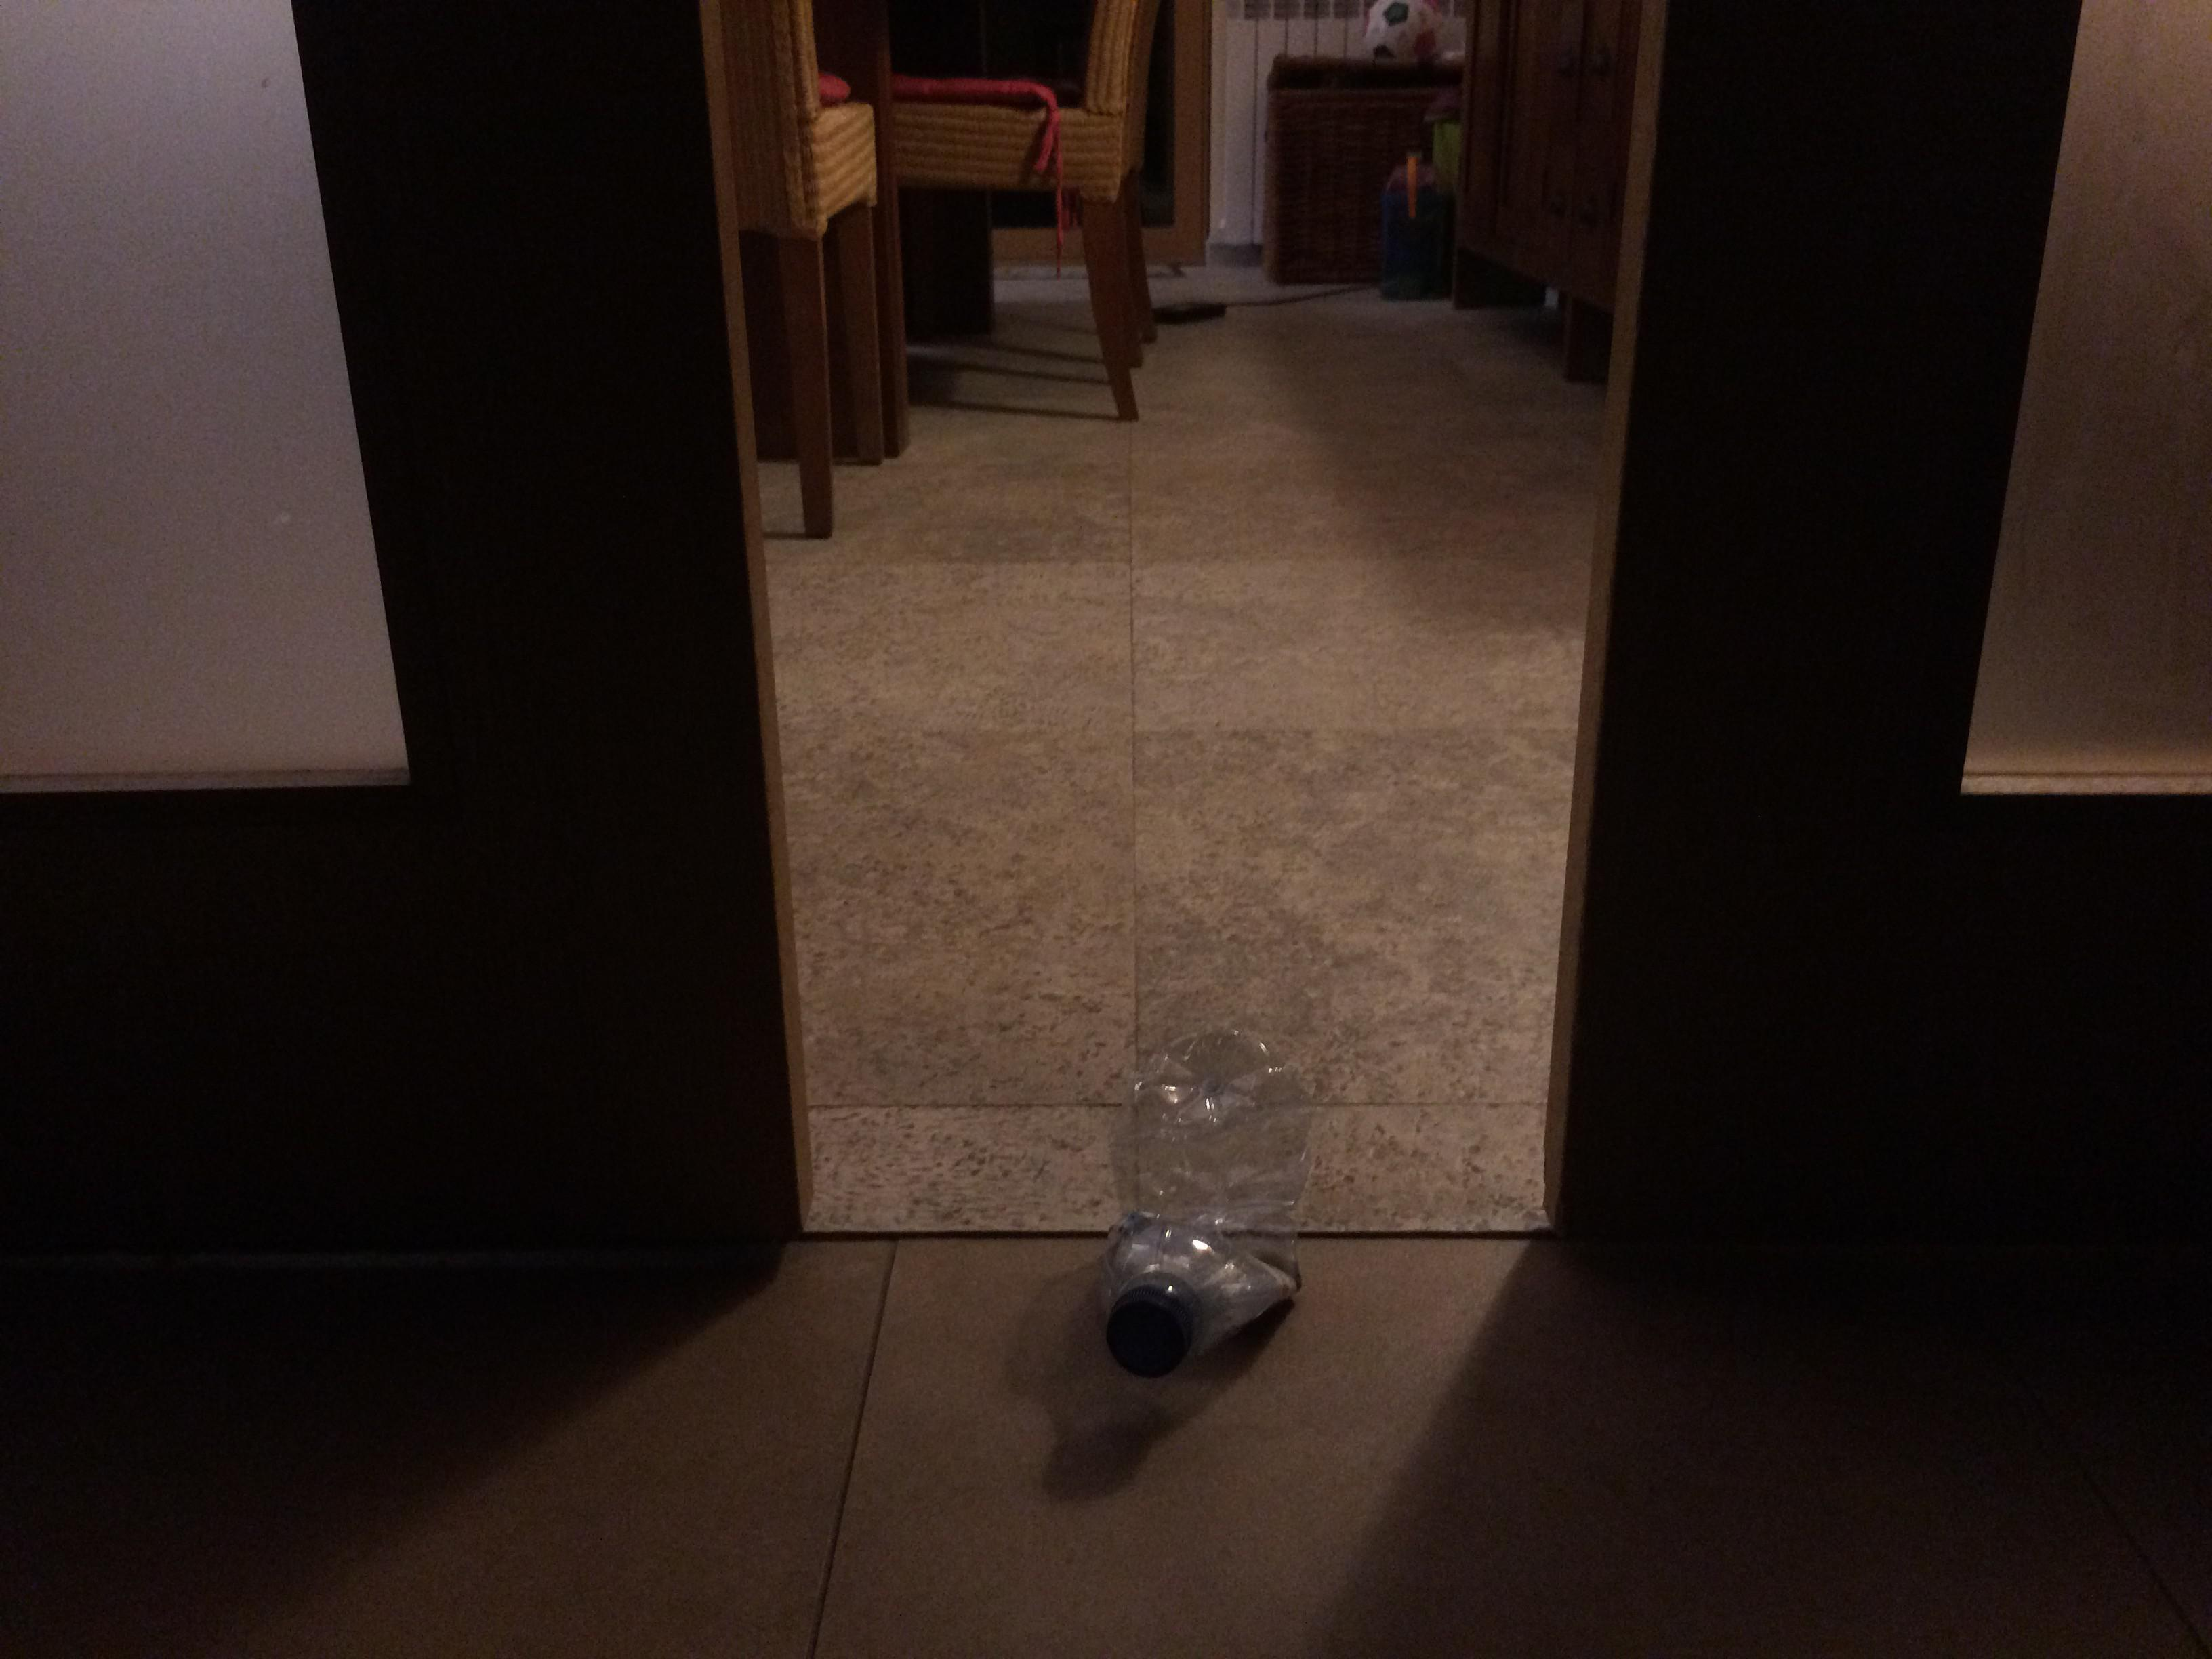Trash: (1103, 1012, 1306, 1373)
